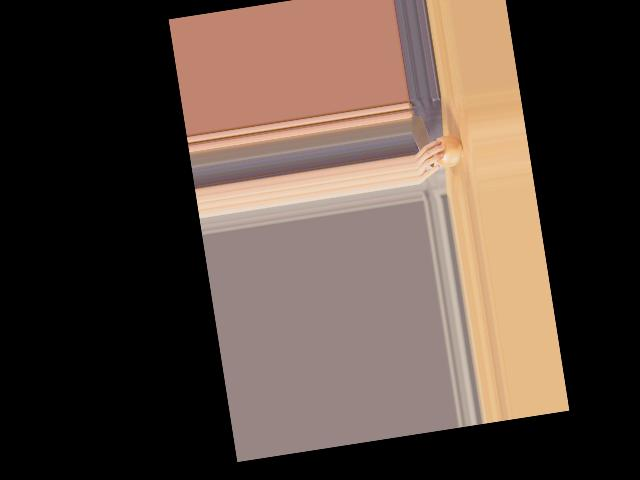onion: (430, 133, 465, 168)
